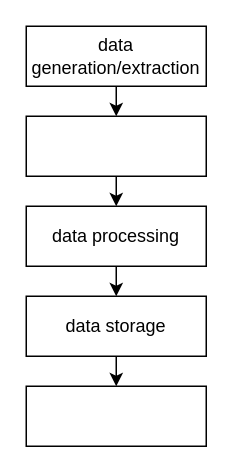
This 233x473 diagram has some shape labels left out. Each missing label, with the centre of its shape:
data ingestion: the point at 115,145
data serving: the point at 115,415
